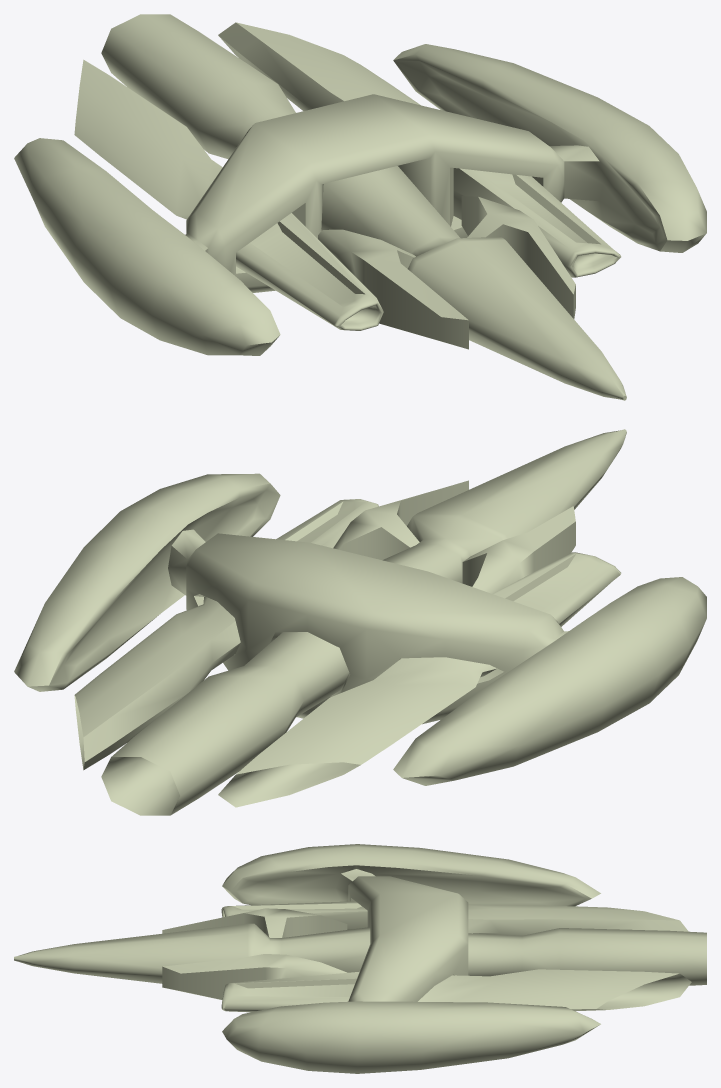
Rendered from frigate.obj.
The picture shows the model from 3 angles, top to bottom: view 1: azimuth 30°, elevation 25°; view 2: azimuth 150°, elevation 25°; view 3: azimuth 270°, elevation 25°; orthographic projection. The views are drawn at different scales.
Visible parts, largest first — view 1: Cube1; view 2: Cube1; view 3: Cube1.
Part boxes in pixels (x1,y1,x2,y2): Cube1: (14, 14, 706, 400); Cube1: (14, 429, 706, 815); Cube1: (14, 844, 706, 1073).
Size of the model in its own units: 0.5436 by 0.1173 by 0.8296.
